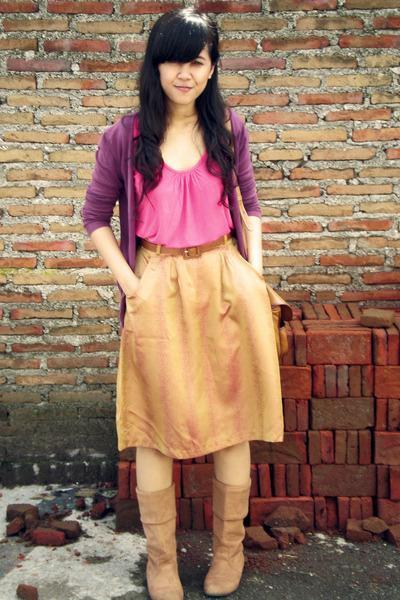jacket: (80, 120, 259, 273)
shirt: (127, 138, 247, 251)
shoe: (136, 468, 250, 599)
skirt: (116, 252, 283, 458)
